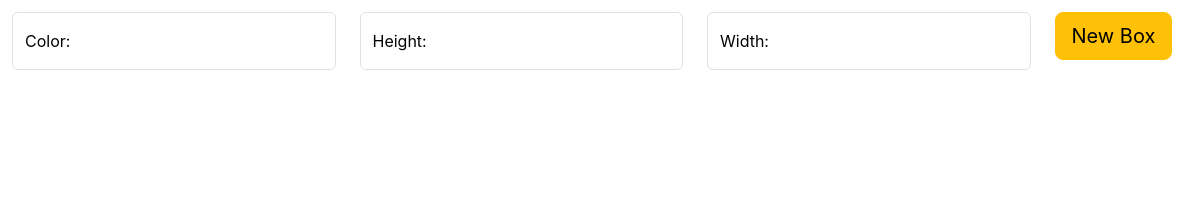
can add a box
This screenshot has width=1189, height=211.
Type "blue" into the field labelled "Color:" at [174, 41], box x1=12 y1=12 x2=336 y2=70
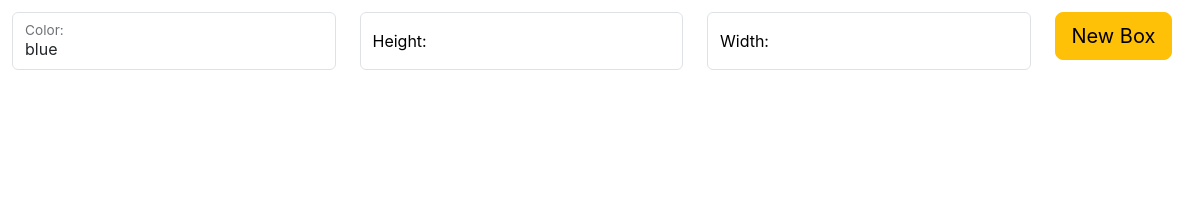
Type "100" into the number field labelled "Width:" at [869, 41], box x1=707 y1=12 x2=1030 y2=70
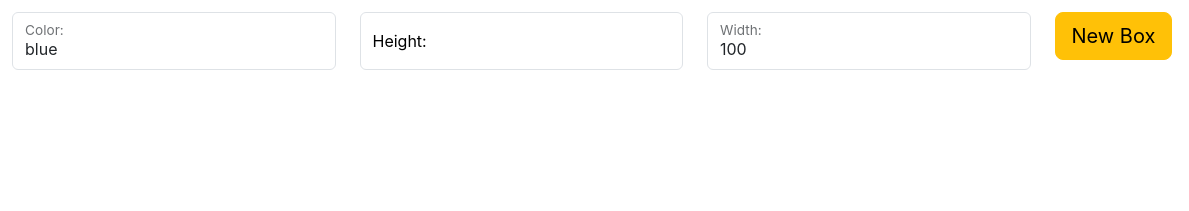
Type "100" into the number field labelled "Height:" at [521, 41], box x1=360 y1=12 x2=683 y2=70
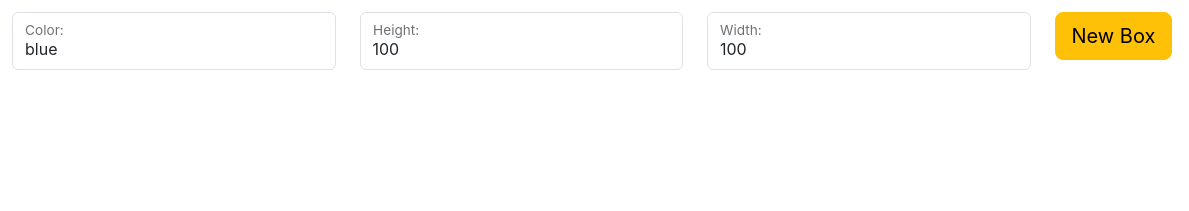
Click the button "New Box" at [1113, 36], box x1=1054 y1=12 x2=1172 y2=60
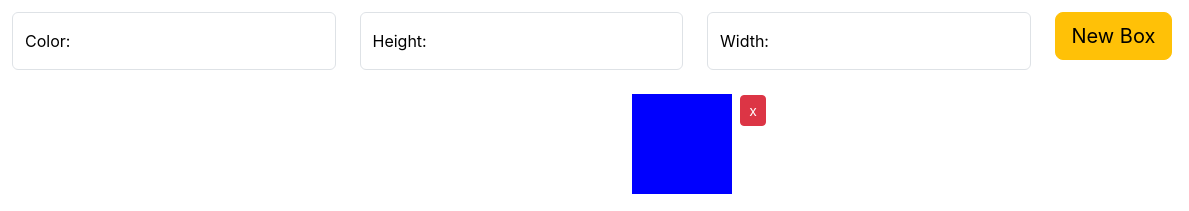
Now the button "x" is shown, box x1=740 y1=95 x2=766 y2=126
